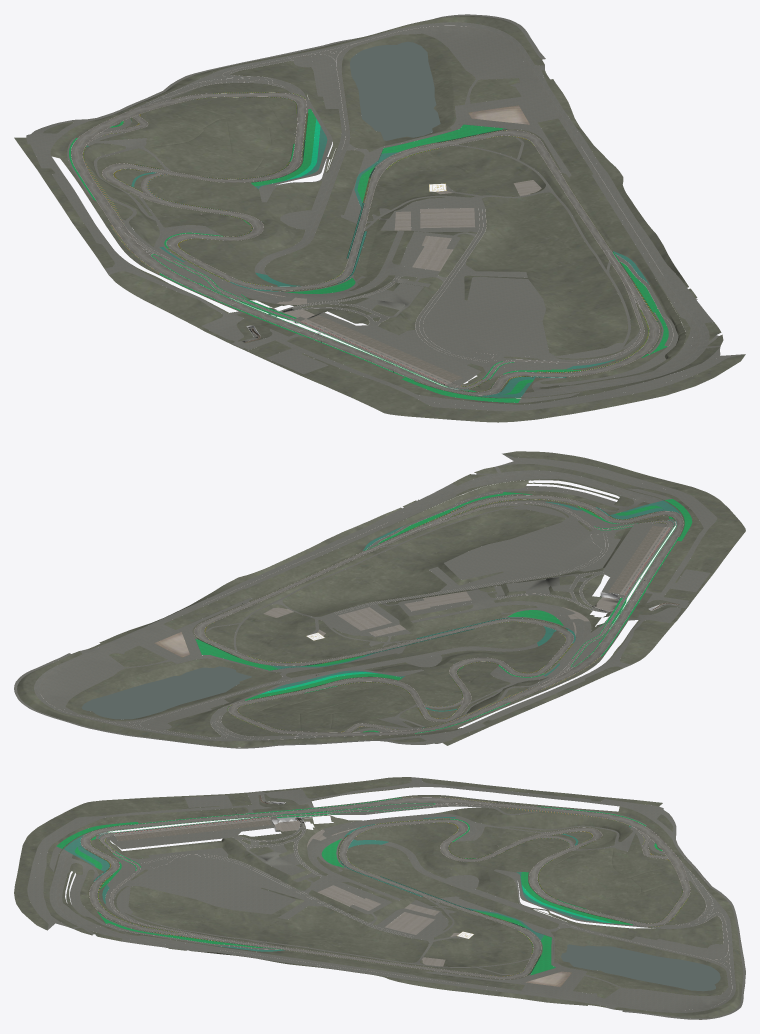
File: graphics.gltf
3 renders of one model, top to bottom at view 1: azimuth 30°, elevation 25°; view 2: azimuth 150°, elevation 25°; view 3: azimuth 270°, elevation 25°, orthographic. The views are drawn at different scales.
Parts seen in each view (by area): view 1: Graphics.Grass, Graphics.Concrete, Graphics.Tarmac.002, Graphics.Concrete.Green, Graphics.069, Graphics.Tarmac.001, Graphics.WhiteLine, Graphics.Concrete.Boxe, Graphics.Concrete.001, Graphics.Kerb, Graphics.Berb, Graphics.055; view 2: Graphics.Grass, Graphics.Concrete, Graphics.Tarmac.002, Graphics.Concrete.Green, Graphics.069, Graphics.Tarmac.001, Graphics.Concrete.001, Graphics.WhiteLine, Graphics.Concrete.Boxe, Graphics.Kerb, Graphics.Berb; view 3: Graphics.Grass, Graphics.Concrete, Graphics.Tarmac.002, Graphics.Concrete.Green, Graphics.069, Graphics.Tarmac.001, Graphics.WhiteLine, Graphics.Concrete.001, Graphics.Concrete.Boxe, Graphics.Kerb, Graphics.Berb, Graphics.055.
Part boxes in pixels (x1,y1,x2,y2): Graphics.Grass: (14,16,745,422); Graphics.Concrete: (26,14,743,411); Graphics.Tarmac.002: (73,92,657,394); Graphics.Concrete.Green: (69,109,668,402); Graphics.069: (350,41,440,140); Graphics.Tarmac.001: (71,93,659,395); Graphics.WhiteLine: (71,25,673,395); Graphics.Concrete.Boxe: (308,315,462,382); Graphics.Concrete.001: (364,137,630,358); Graphics.Kerb: (83,92,657,386); Graphics.Berb: (135,92,506,392); Graphics.055: (200,213,459,389); Graphics.Grass: (17,451,745,747); Graphics.Concrete: (14,454,717,748); Graphics.Tarmac.002: (197,496,683,736); Graphics.Concrete.Green: (195,492,692,733); Graphics.069: (81,666,251,719); Graphics.Tarmac.001: (194,495,682,734); Graphics.Concrete.001: (205,505,567,652); Graphics.WhiteLine: (41,492,683,739); Graphics.Concrete.Boxe: (608,525,664,593); Graphics.Kerb: (204,499,666,729); Graphics.Berb: (197,515,675,730); Graphics.Grass: (14,777,743,1018); Graphics.Concrete: (27,777,745,1019); Graphics.Tarmac.002: (84,799,687,978); Graphics.Concrete.Green: (56,797,662,975); Graphics.069: (561,944,720,991); Graphics.Tarmac.001: (80,797,690,979); Graphics.WhiteLine: (80,797,732,1004); Graphics.Concrete.001: (116,886,530,975); Graphics.Concrete.Boxe: (115,820,272,841); Graphics.Kerb: (97,818,687,976); Graphics.Berb: (90,819,687,975); Graphics.055: (99,818,498,846).
Bounding box in the file's own units: 915 × 56.33 × 1270.
Materials: 44 (44 with a texture image).
